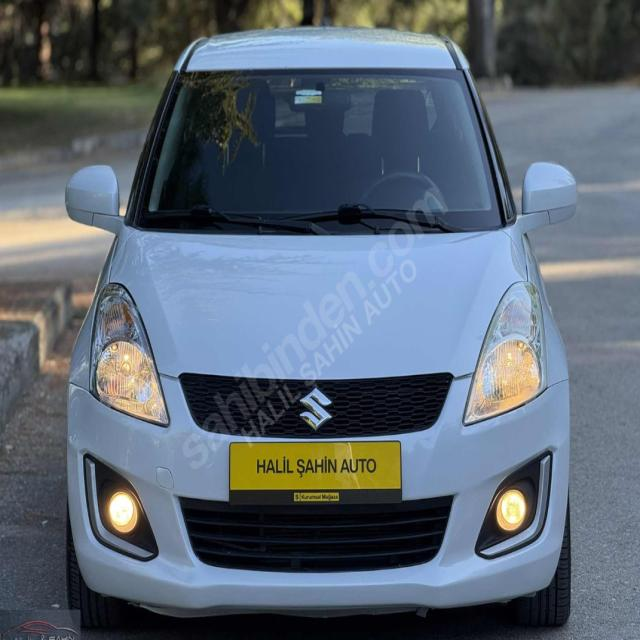suzuki: (295, 384, 336, 434)
